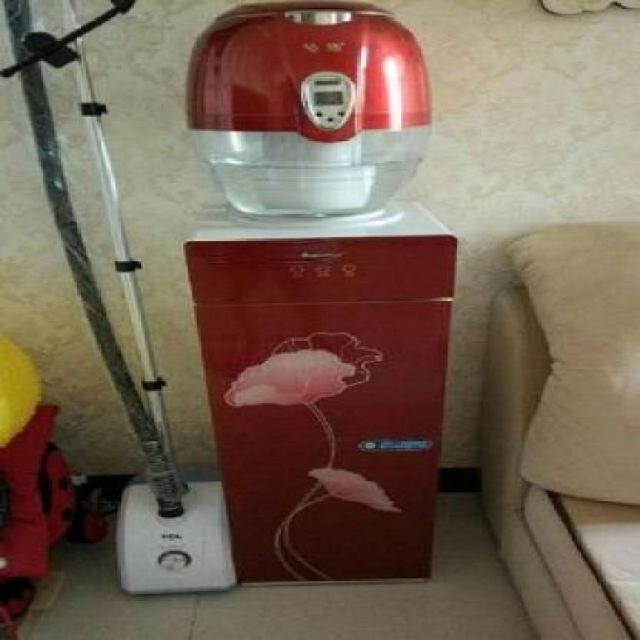cooler: (178, 0, 475, 595)
